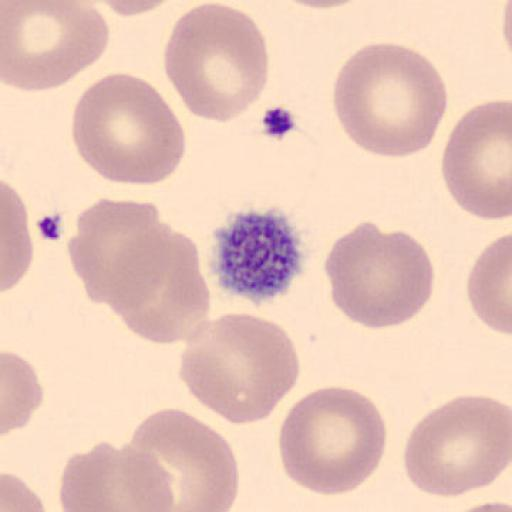Platelet: (207, 206, 308, 306)
RBC: (82, 205, 212, 346), (176, 311, 302, 425), (331, 40, 450, 160), (70, 70, 187, 188), (162, 2, 270, 124), (278, 384, 388, 498), (322, 222, 436, 331), (109, 226, 212, 345), (126, 406, 241, 512), (402, 392, 512, 498), (67, 197, 168, 311), (2, 0, 112, 93), (441, 98, 512, 221), (59, 438, 177, 512), (466, 230, 512, 336), (2, 349, 44, 437), (1, 180, 33, 294), (1, 471, 47, 512), (91, 0, 182, 18), (274, 0, 370, 10), (445, 500, 512, 512), (503, 0, 511, 63)
